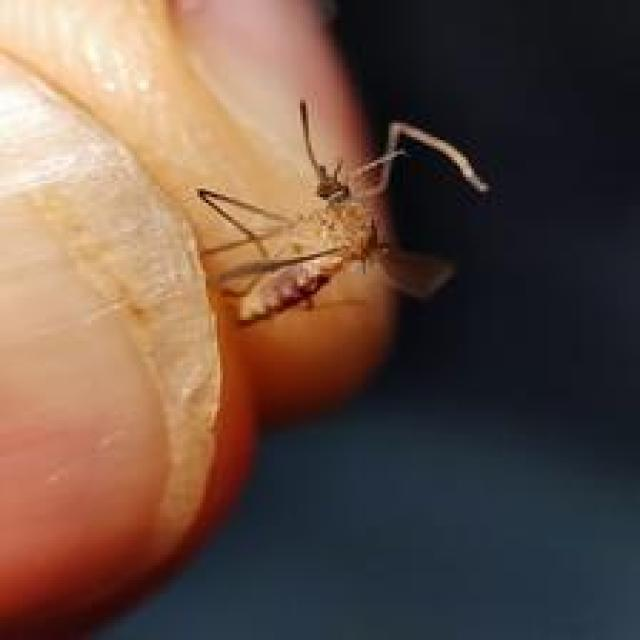Culex: (194, 97, 492, 326)
